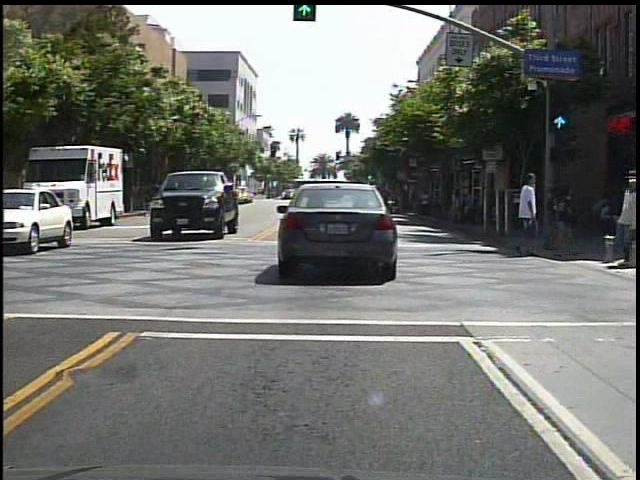person: (510, 160, 547, 258), (612, 167, 637, 235), (416, 187, 434, 219), (553, 174, 555, 257)
